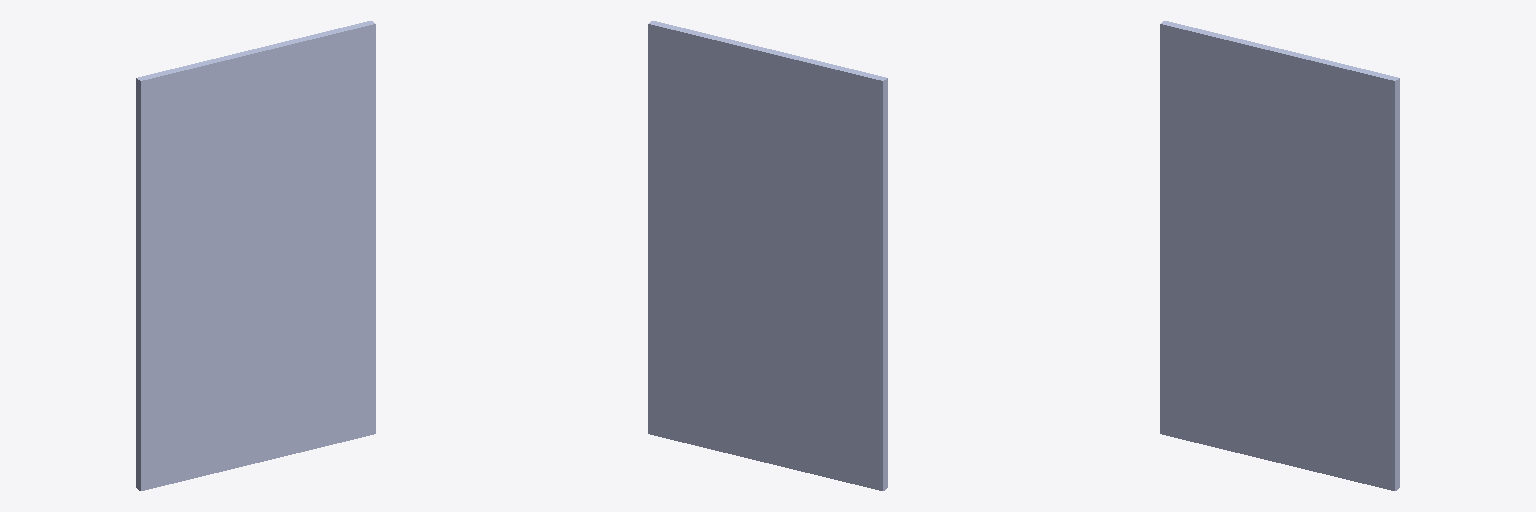
URDF robot description (Part1):
<robot
  name="Part1">
  <link
    name="Part1">
    <inertial>
      <origin
        xyz="-1.2649E-18 -0.005 3.06151588455594E-19"
        rpy="0 0 0" />
      <mass
        value="1.5" />
      <inertia
        ixx="0.0312625"
        ixy="-3.3881317890172E-20"
        ixz="-2.07456385820902E-36"
        iyy="0.0425"
        iyz="-1.91268204887633E-18"
        izz="0.0112625" />
    </inertial>
    <visual>
      <origin
        xyz="0 0 0"
        rpy="1.5707963267949 0 0" />
      <geometry>
        <mesh
          filename="package://Part1/meshes/Part1.STL" />
      </geometry>
      <material
        name="">
        <color
          rgba="0.79216 0.81961 0.93333 1" />
      </material>
    </visual>
    <collision>
      <origin
        xyz="0 0 0"
        rpy="1.5707963267949 0 0" />
      <geometry>
        <mesh
          filename="package://Part1/meshes/Part1.STL" />
      </geometry>
    </collision>
  </link>
</robot>

--- Render facts (derived) ---
Views: 3 orthographic renders of the robot side by side, from view 1: azimuth 30°, elevation 25°; view 2: azimuth 150°, elevation 25°; view 3: azimuth 330°, elevation 25°.
Robot: Part1 — 1 links, 0 joints (none); root link Part1; default pose: every joint at zero.
Visible links, largest first — view 1: Part1; view 2: Part1; view 3: Part1.
Link boxes in pixels (box(x1,y1,x2,y2)): Part1: box(136, 21, 375, 490); Part1: box(648, 21, 887, 490); Part1: box(1160, 21, 1399, 490).
Bounding box of the posed robot: 0.3 × 0.01 × 0.5 m (x, y, z).
1 mesh visuals loaded from 1 distinct referenced files (1 binary STL).